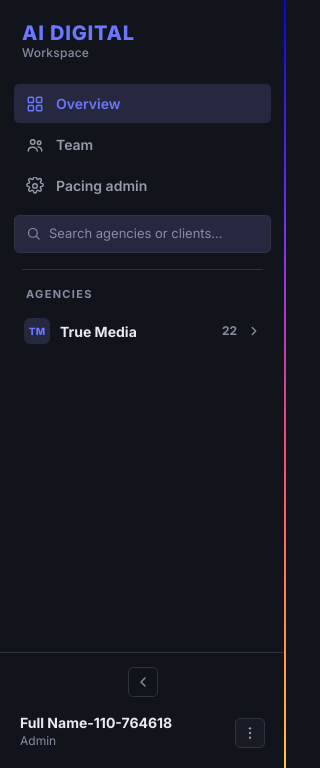
Scenario: Sidebar › should read the agency's own list when a search matched through a client
The width and height of the screenshot is (320, 768).
Step 1. Type "chime" into the search field labelled "Search agencies or clients…" → (154,234), box [49,224,259,244]
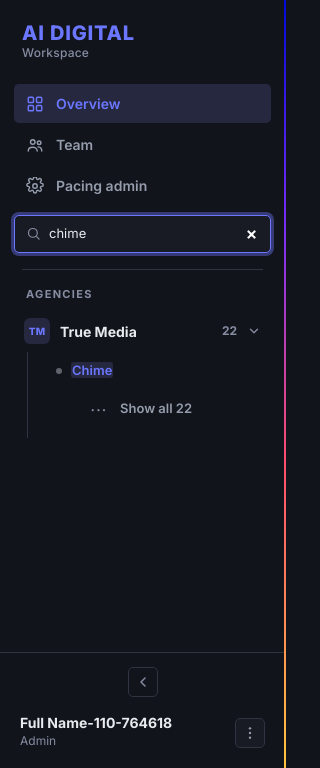
expect the link "Chime" is shown: met, box [56,362,113,378]
// the step, which here offers the agency's list rather than a count of what is missing
Step 2. Click the button "··· Show all 22" → (174,409), box [76,390,271,428]
(page scrolled)
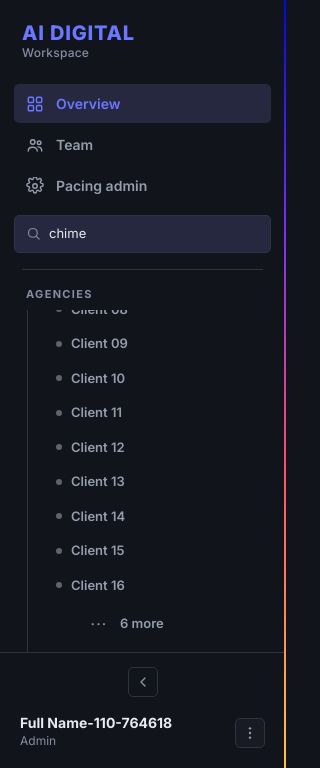
expect the button "··· 6 more" is shown: met, box [76,605,271,642]
